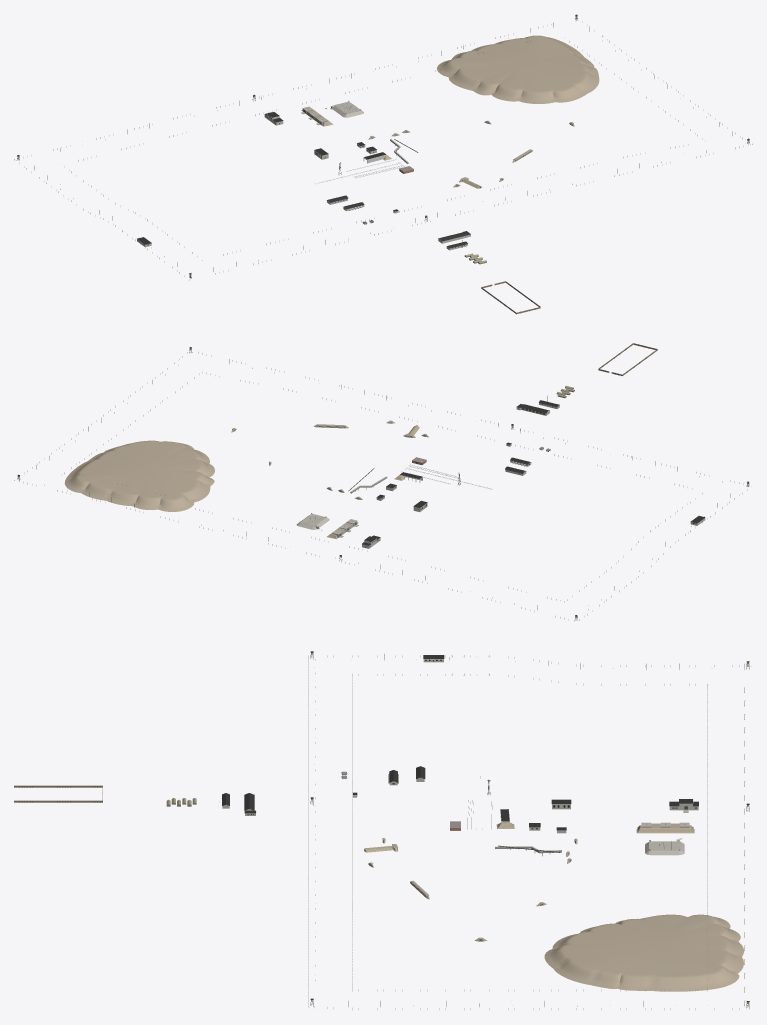
The picture shows the model from 3 angles, top to bottom: view 1: azimuth 30°, elevation 25°; view 2: azimuth 150°, elevation 25°; view 3: azimuth 270°, elevation 25°; orthographic projection. The views are drawn at different scales.
Parts seen in each view (by area): view 1: SpoilHeap_Earth; view 2: SpoilHeap_Earth; view 3: SpoilHeap_Earth.
Boxes of the visible parts, x1,y1,x2,y2 form: SpoilHeap_Earth: (437,35,599,103); SpoilHeap_Earth: (64,440,214,511); SpoilHeap_Earth: (544,914,743,991).
Bounding box in the file's own units: 922 × 34.08 × 825.
